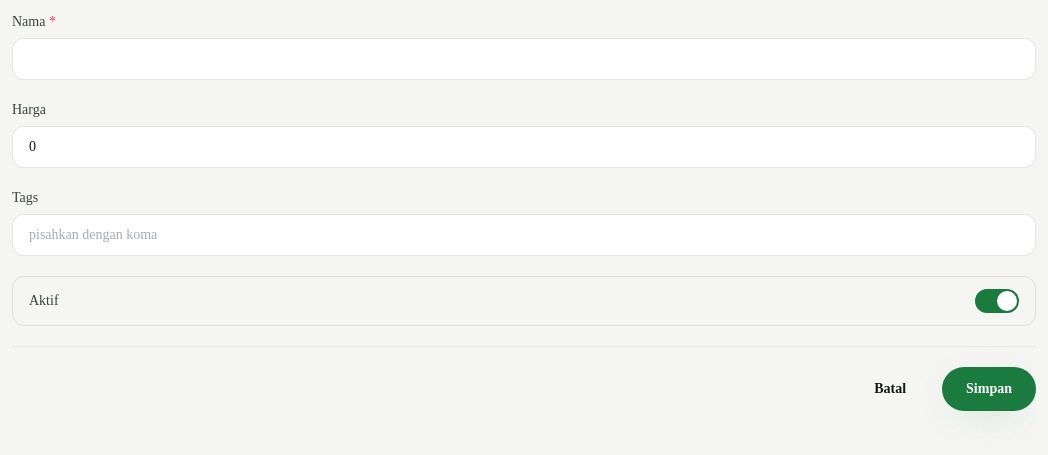
Test: ResourceForm › blocks submit and shows a validation error when a required field is empty
Click the button "Simpan": (989,389) x1=942 y1=367 x2=1036 y2=411
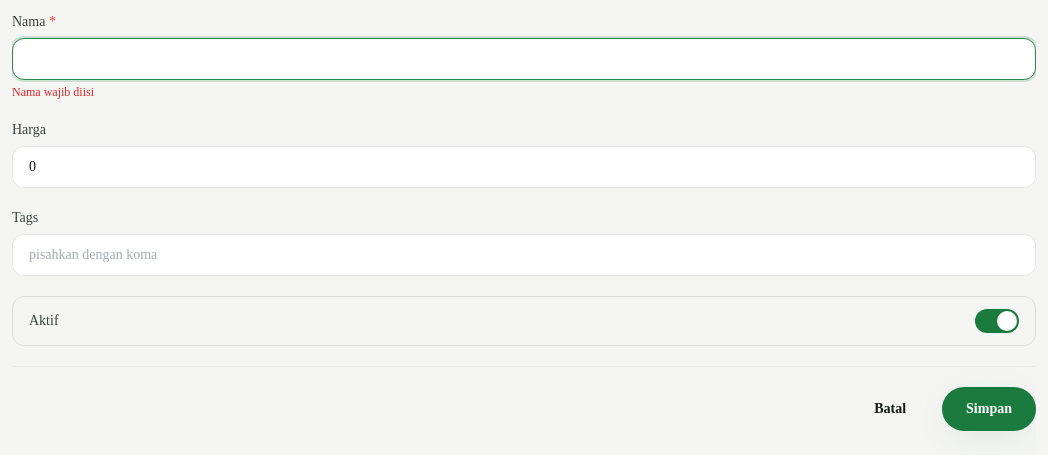
Now the text "Nama wajib diisi" is shown, box x1=12 y1=85 x2=94 y2=99
